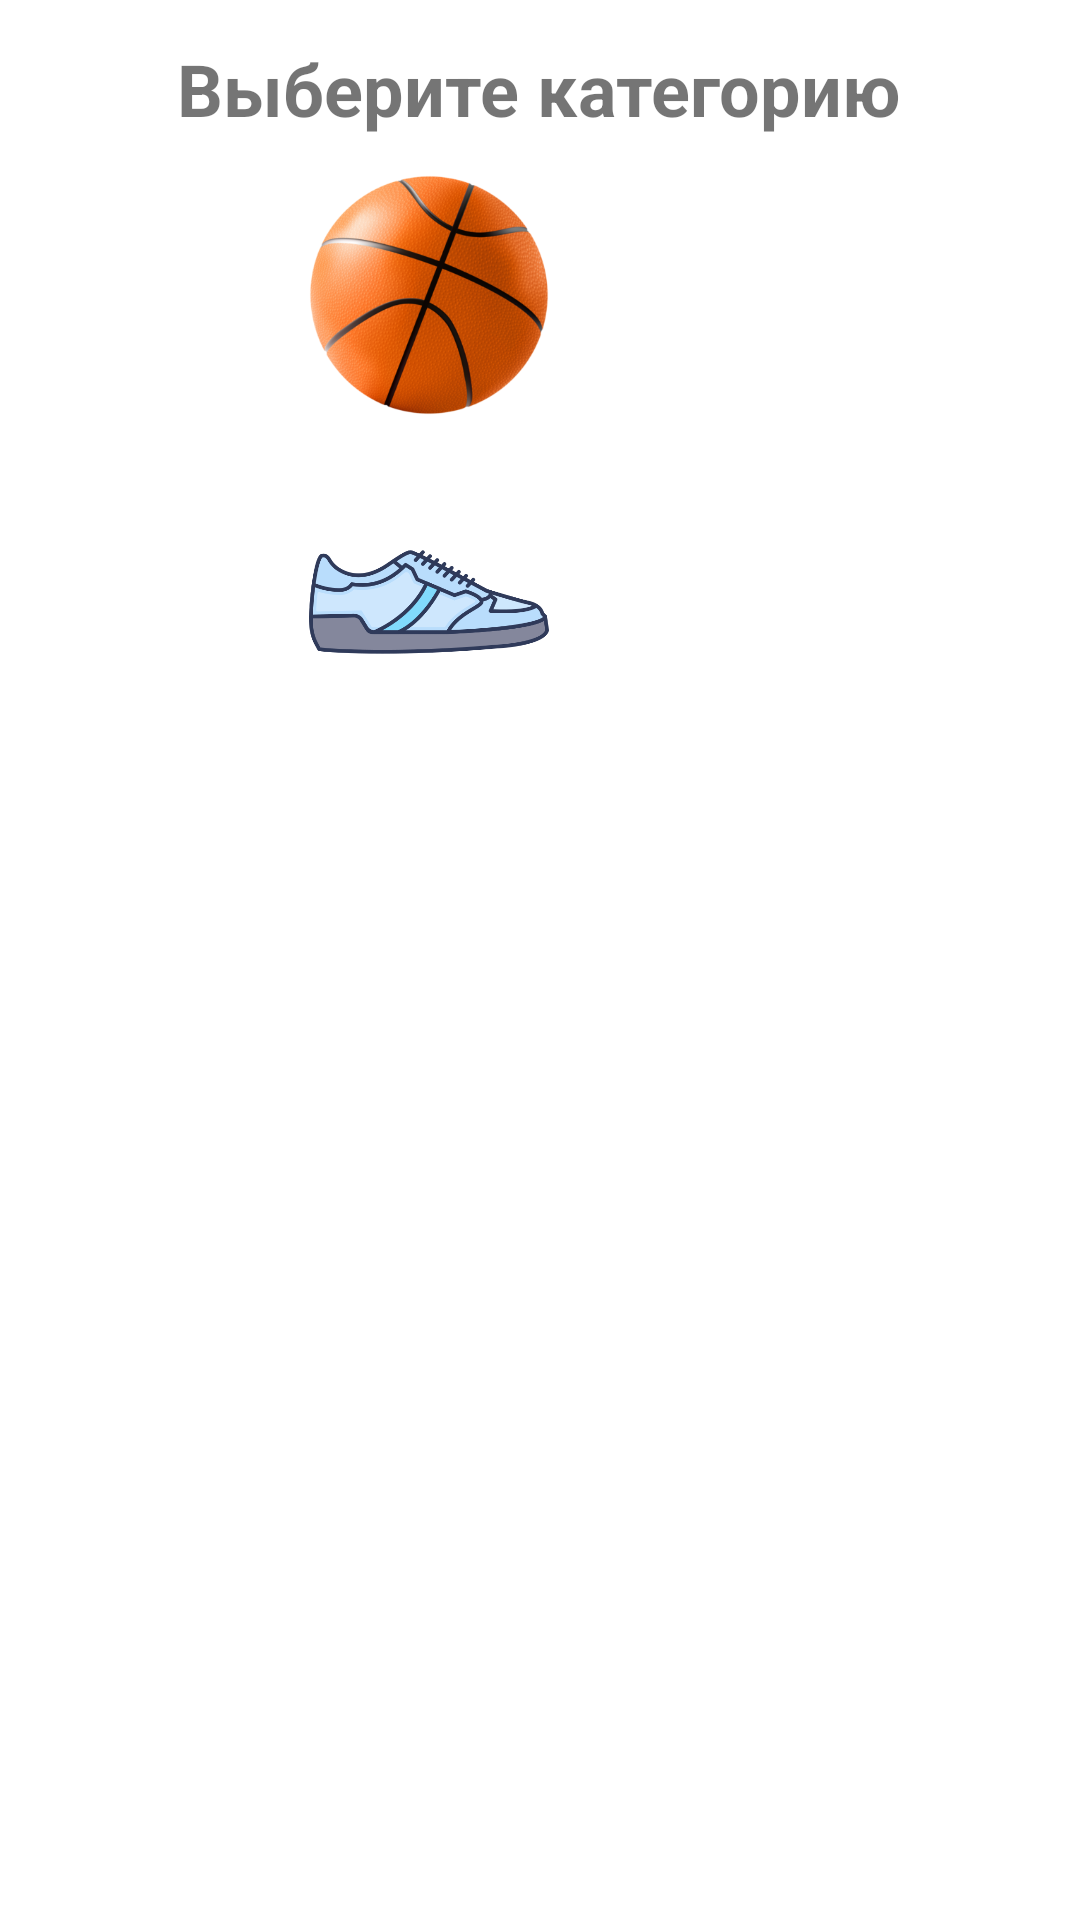

Icons on this 1080×1920 Android screen, each with its box as BBox(x1, y1, x2, y2):
ball: BBox(310, 176, 548, 414)
sneak: BBox(309, 550, 549, 654)
